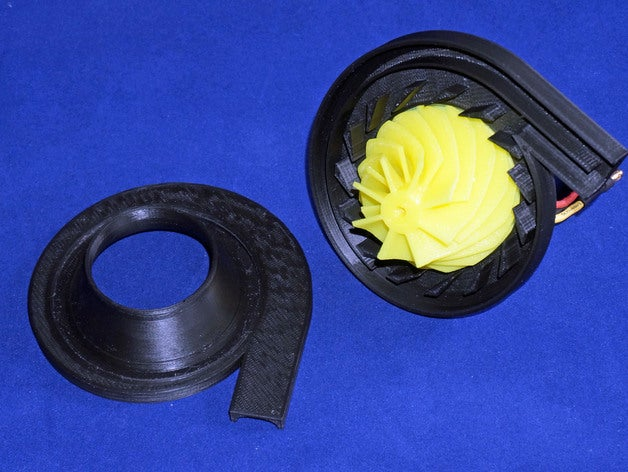Good: (7, 13, 628, 430)
